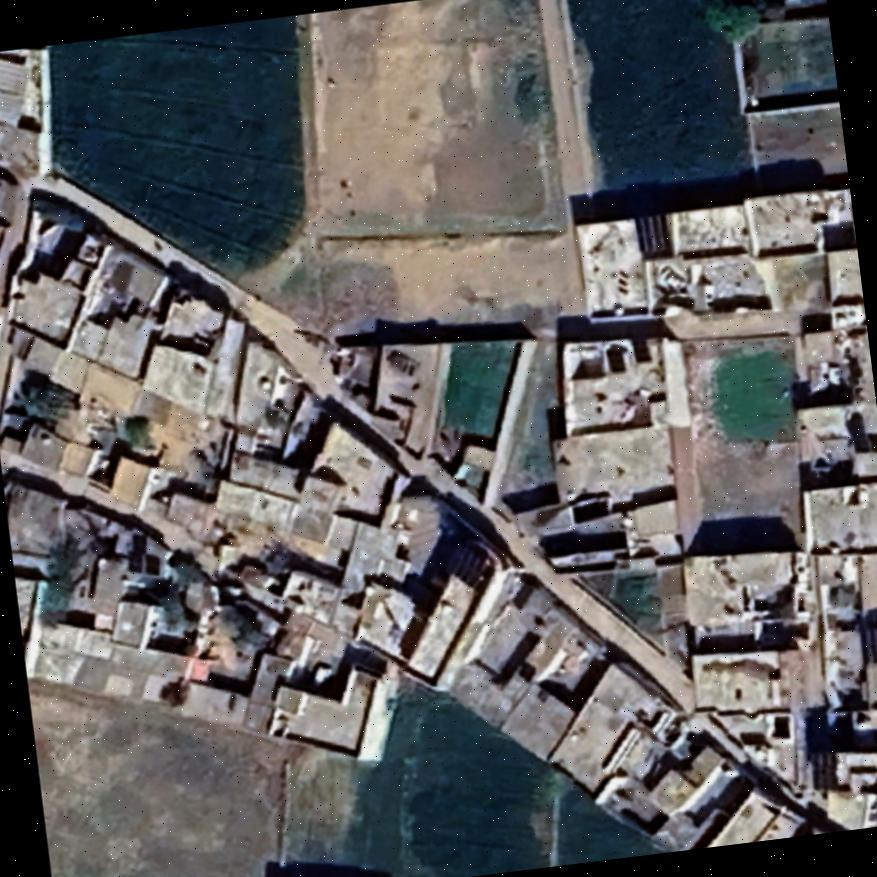Solarpanel: (122, 527, 164, 581), (445, 541, 488, 591), (631, 209, 673, 251), (855, 623, 877, 666), (602, 342, 629, 376)
